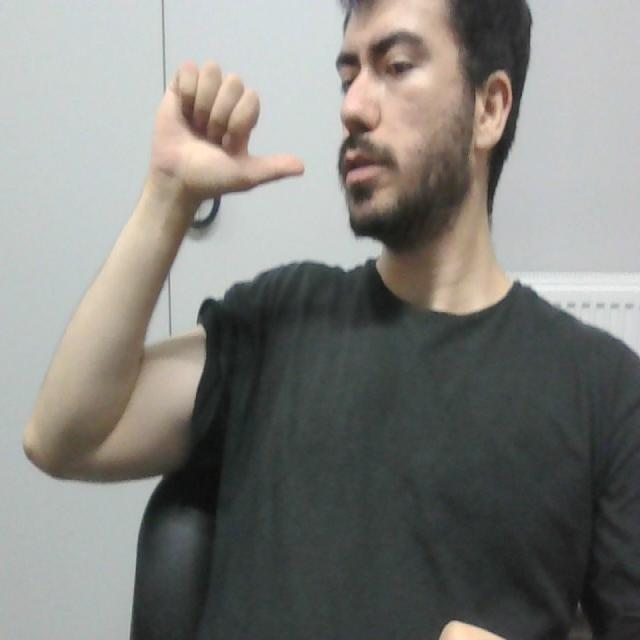icmek: (141, 56, 383, 203)
